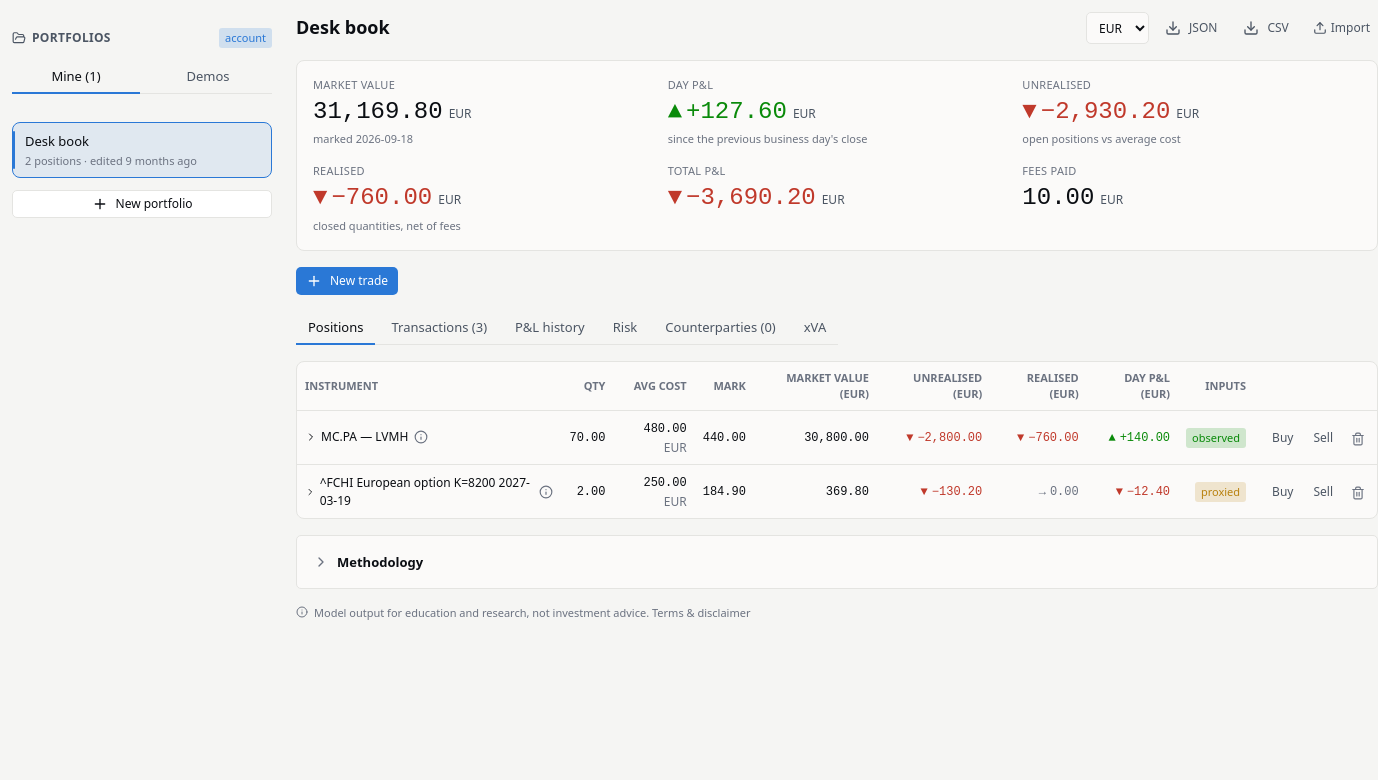
Test: portfolio page › keeps a journal where a sale is shown as cash received
The width and height of the screenshot is (1378, 780).
Click the tab "Transactions (3)" at [439, 328], box [380,311,499,345]
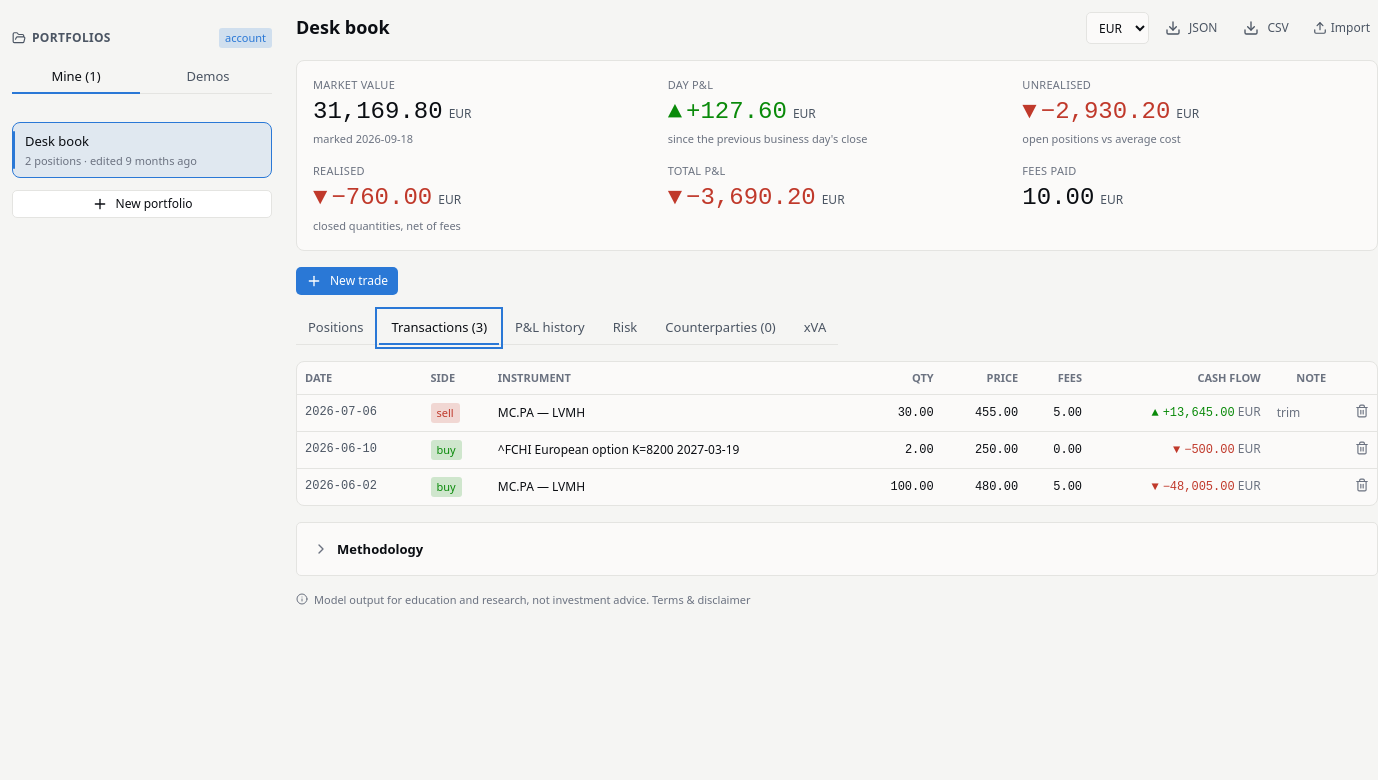
Check: the text "sell" is shown, box [430,403,460,423]
Check: the text "+13,645.00" is shown, box [1163,406,1235,420]
